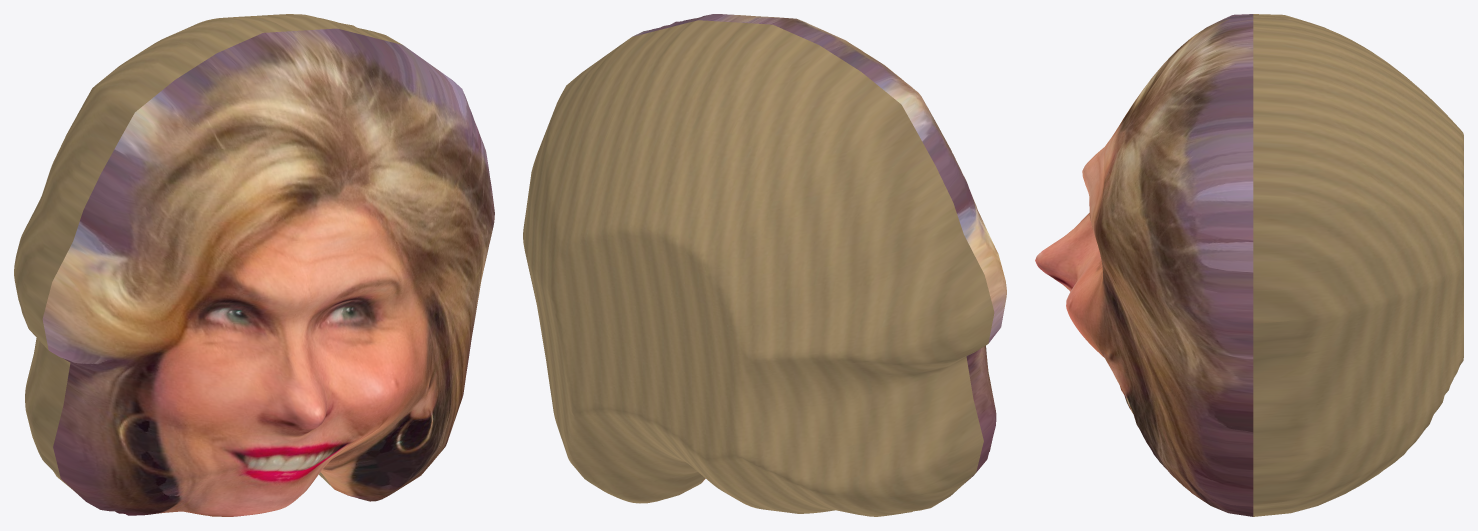
File: christine-baranski.glb
3 views of the same model, side by side, from view 1: azimuth 30°, elevation 25°; view 2: azimuth 150°, elevation 25°; view 3: azimuth 270°, elevation 25° (orthographic). The views are drawn at different scales.
Visible parts, largest first — view 1: Christine Baranski head; view 2: Christine Baranski head; view 3: Christine Baranski head.
Boxes of the visible parts, x1=… form: Christine Baranski head: x1=14, y1=14, x2=494, y2=516; Christine Baranski head: x1=523, y1=14, x2=1006, y2=516; Christine Baranski head: x1=1035, y1=14, x2=1463, y2=516.
Bounding box in the file's own units: 2.02 × 2.13 × 1.87.
Materials: 2 (2 with a texture image).
